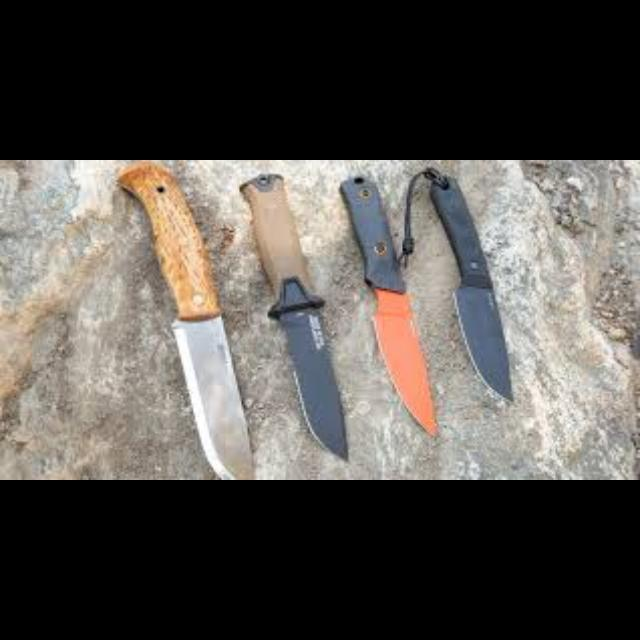knife: (115, 162, 253, 478), (238, 172, 348, 460), (338, 175, 438, 438), (425, 166, 513, 402)
